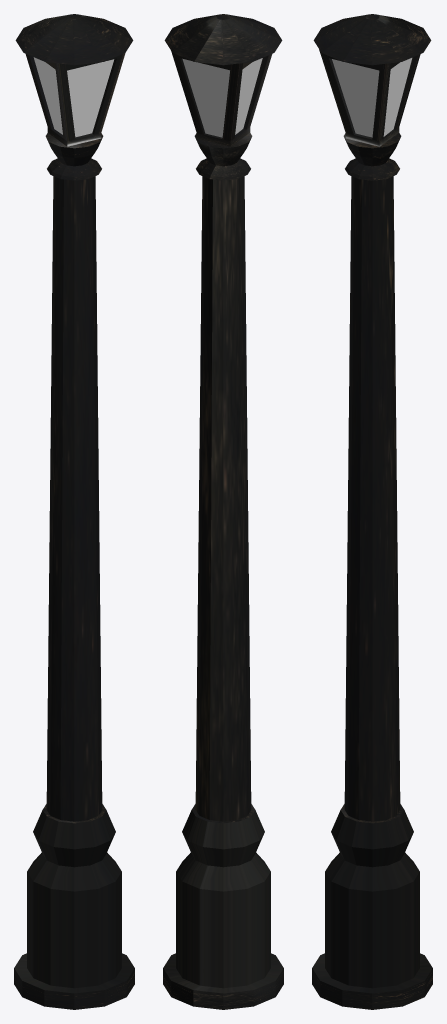
File: Poste.fbx
3 renders of one model, left to right at view 1: azimuth 30°, elevation 25°; view 2: azimuth 150°, elevation 25°; view 3: azimuth 330°, elevation 25°, orthographic.
Visible parts, largest first — view 1: Poste, Base poste, Topo lamparina, Vidro, Ferro da lamparina, Base lamparina; view 2: Poste, Base poste, Topo lamparina, Vidro, Ferro da lamparina, Base lamparina; view 3: Poste, Base poste, Topo lamparina, Vidro, Ferro da lamparina, Base lamparina.
Part boxes in pixels (x1=…): Poste: x1=46, y1=176, x2=102, y2=821; Base poste: x1=14, y1=804, x2=134, y2=1009; Topo lamparina: x1=15, y1=14, x2=133, y2=65; Vidro: x1=33, y1=57, x2=114, y2=137; Ferro da lamparina: x1=25, y1=53, x2=125, y2=146; Base lamparina: x1=45, y1=133, x2=103, y2=180; Poste: x1=195, y1=176, x2=251, y2=821; Base poste: x1=163, y1=804, x2=283, y2=1009; Topo lamparina: x1=164, y1=14, x2=282, y2=65; Vidro: x1=182, y1=58, x2=262, y2=137; Ferro da lamparina: x1=171, y1=51, x2=272, y2=146; Base lamparina: x1=194, y1=133, x2=252, y2=180; Poste: x1=344, y1=176, x2=400, y2=821; Base poste: x1=312, y1=804, x2=432, y2=1009; Topo lamparina: x1=313, y1=14, x2=431, y2=65; Vidro: x1=332, y1=58, x2=412, y2=137; Ferro da lamparina: x1=319, y1=49, x2=420, y2=146; Base lamparina: x1=343, y1=133, x2=401, y2=180.
Size of the model in its own units: 45.1 by 399 by 45.1.
